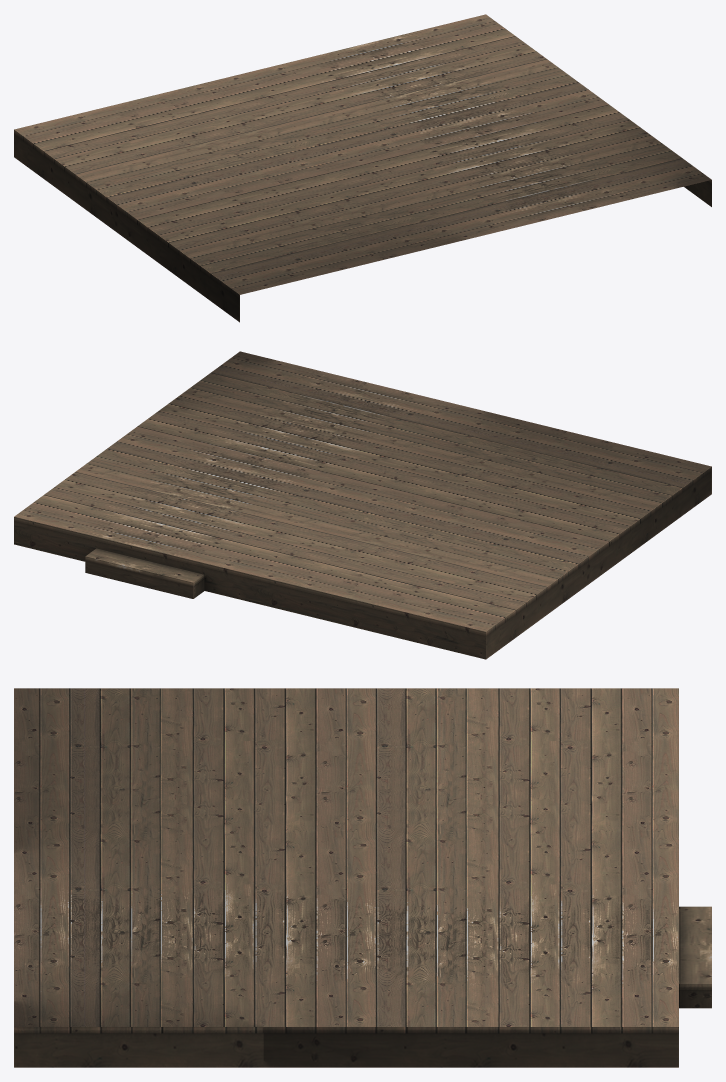
The model's file is WoodDeck.FBX.
The picture shows the model from 3 angles, top to bottom: view 1: azimuth 30°, elevation 25°; view 2: azimuth 150°, elevation 25°; view 3: azimuth 270°, elevation 25°; orthographic projection. The views are drawn at different scales.
Visible parts, largest first — view 1: WoodDeck; view 2: WoodDeck; view 3: WoodDeck.
Boxes of the visible parts, x1,y1,x2,y2 form: WoodDeck: (14, 14, 711, 322); WoodDeck: (14, 351, 711, 659); WoodDeck: (14, 688, 711, 1067).
Bounding box in the file's own units: 436 × 24.41 × 379.
